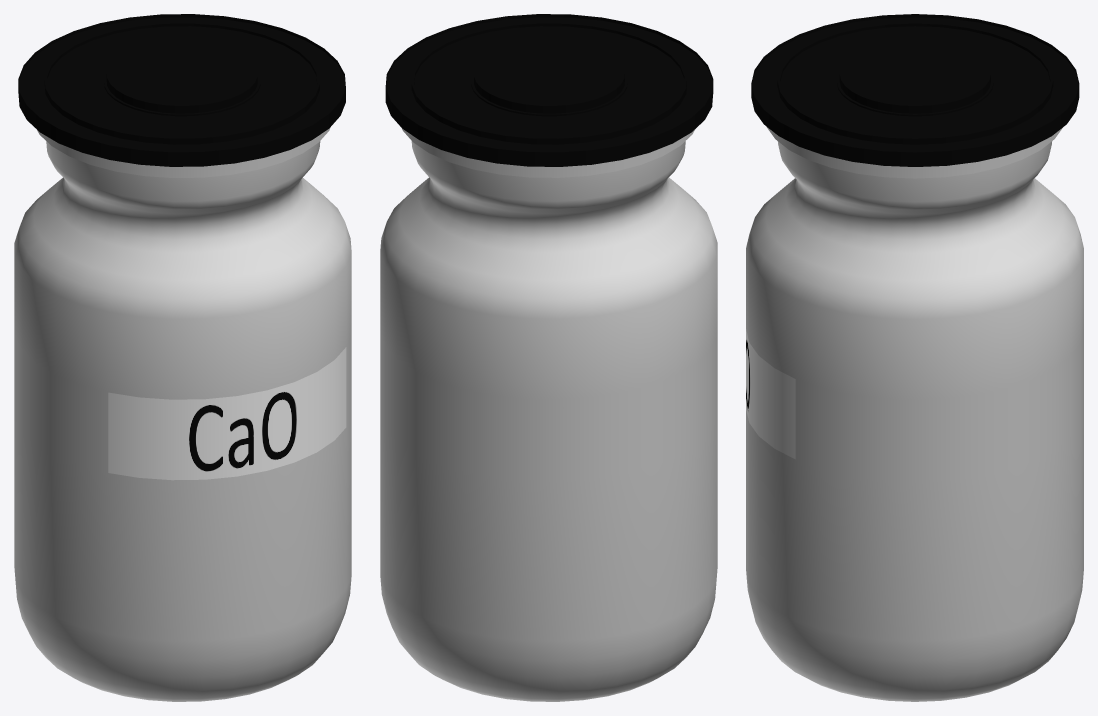
The model's file is CaO.fbx.
The picture shows the model from 3 angles, left to right: view 1: azimuth 30°, elevation 25°; view 2: azimuth 150°, elevation 25°; view 3: azimuth 270°, elevation 25°; orthographic projection.
Parts seen in each view (by area): view 1: Joined CaO; view 2: Joined CaO; view 3: Joined CaO.
Part boxes in pixels (bbox=[...]): Joined CaO: bbox=[14, 14, 351, 701]; Joined CaO: bbox=[380, 14, 717, 701]; Joined CaO: bbox=[746, 14, 1083, 701].
Bounding box in the file's own units: 4.46 × 8.35 × 4.46.
Materials: 4 (2 with a texture image).
